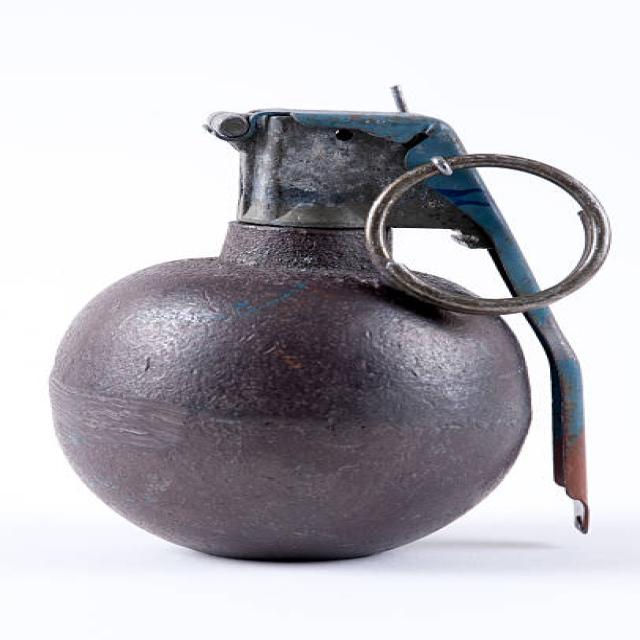grenade: (36, 82, 615, 571)
